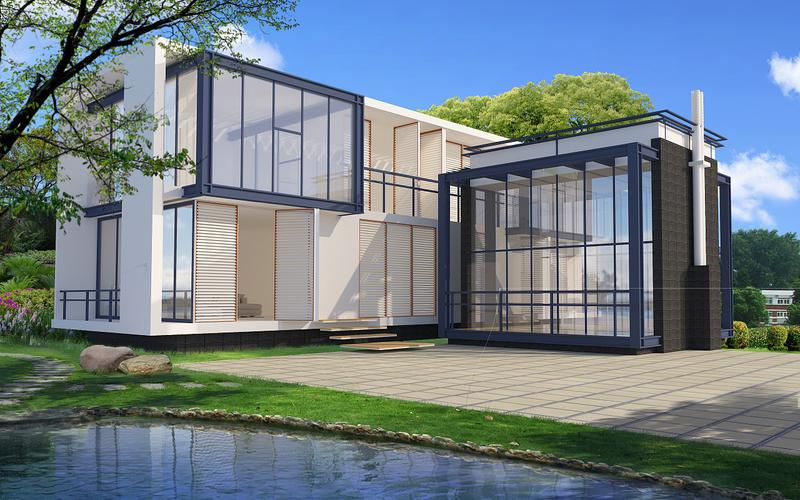buildings: (337, 101, 745, 361), (299, 214, 441, 331)
